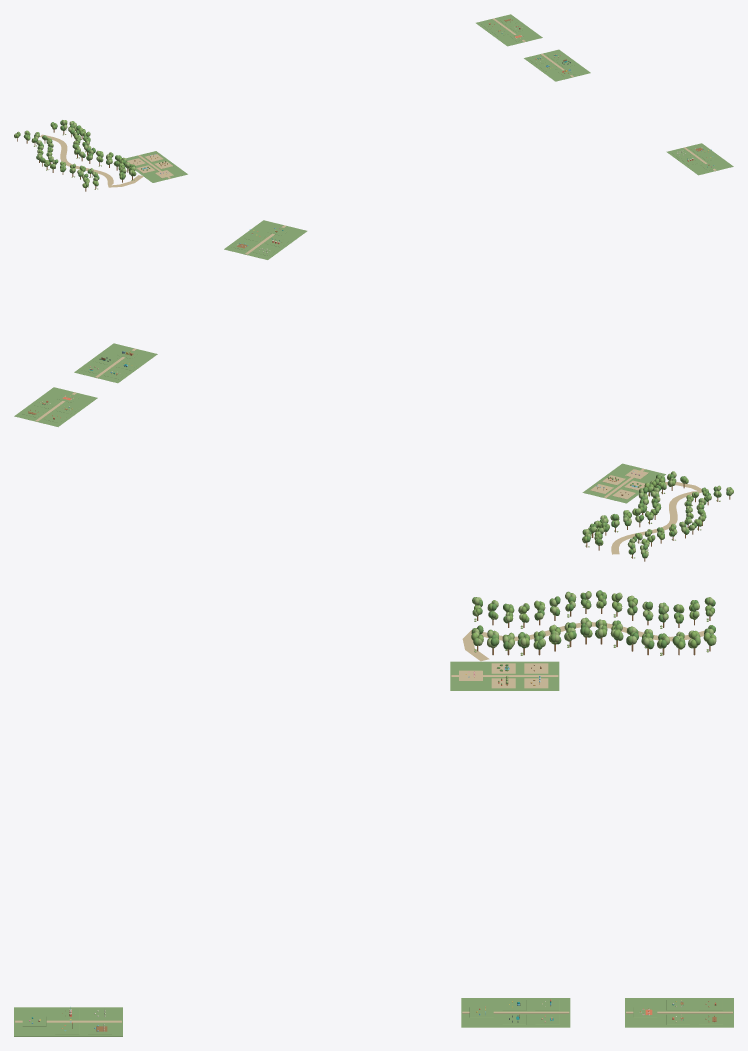
Rendered from forest-events.glb.
3 renders of one model, top to bottom at view 1: azimuth 30°, elevation 25°; view 2: azimuth 150°, elevation 25°; view 3: azimuth 270°, elevation 25°, orthographic. The views are drawn at different scales.
Visible parts, largest first — view 1: WoodlandGround; view 2: WoodlandGround; view 3: WoodlandGround.
Boxes of the visible parts, x1,y1,x2,y2 form: WoodlandGround: (34, 14, 733, 189); WoodlandGround: (14, 220, 720, 558); WoodlandGround: (14, 606, 733, 1036).
Size of the model in its own units: 469 by 9.17 by 330.
